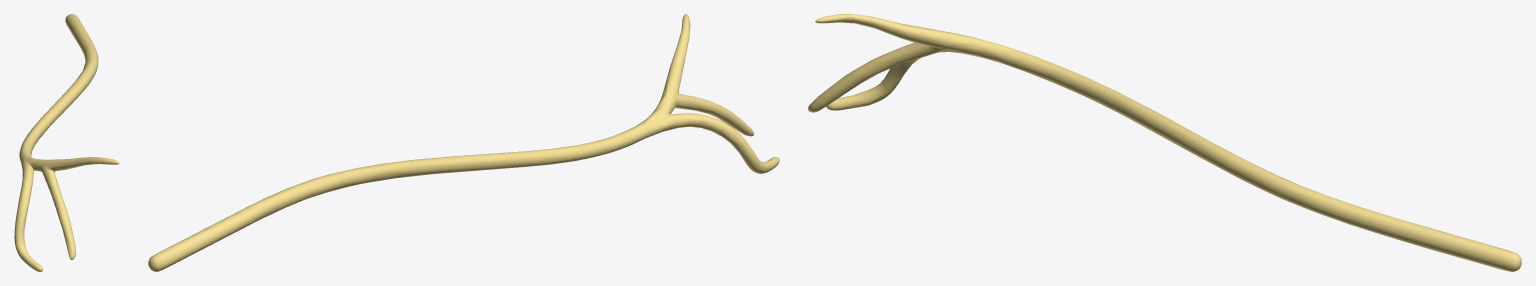
The model's file is fma52629_fj4010.glb.
The picture shows the model from 3 angles, left to right: view 1: azimuth 30°, elevation 25°; view 2: azimuth 150°, elevation 25°; view 3: azimuth 270°, elevation 25°; orthographic projection. The views are drawn at different scales.
Parts seen in each view (by area): view 1: FMA52629_FJ4010; view 2: FMA52629_FJ4010; view 3: FMA52629_FJ4010.
Boxes of the visible parts, <box> form: FMA52629_FJ4010: <box>14,14,119,271</box>; FMA52629_FJ4010: <box>148,14,779,271</box>; FMA52629_FJ4010: <box>808,14,1521,271</box>.
Size of the model in its own units: 0.0233 by 0.008 by 0.0354.
